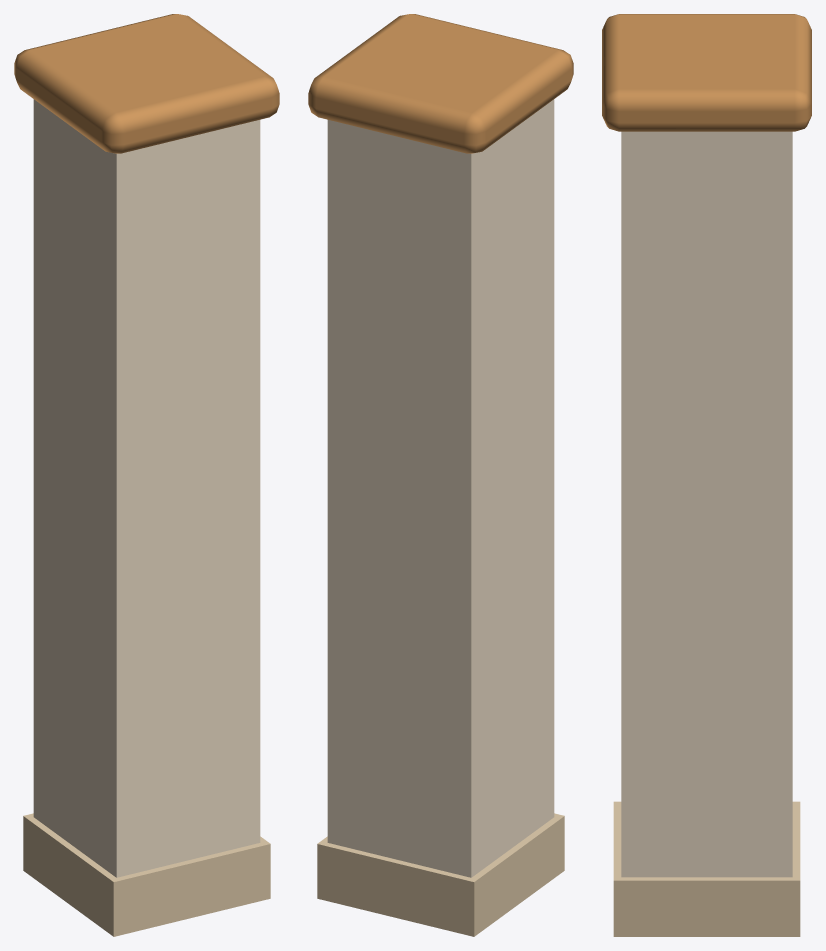
File: wg_pfosten_halb.glb
3 views of the same model, side by side, from view 1: azimuth 30°, elevation 25°; view 2: azimuth 150°, elevation 25°; view 3: azimuth 270°, elevation 25° (orthographic). The views are drawn at different scales.
Parts seen in each view (by area): view 1: wg_pfosten_halb; view 2: wg_pfosten_halb; view 3: wg_pfosten_halb.
Boxes of the visible parts, box(x1,y1,x2,y2) form: wg_pfosten_halb: box(14, 14, 279, 936); wg_pfosten_halb: box(308, 14, 573, 936); wg_pfosten_halb: box(602, 14, 811, 936).
Size of the model in its own units: 0.27 by 1.2 by 0.27.
